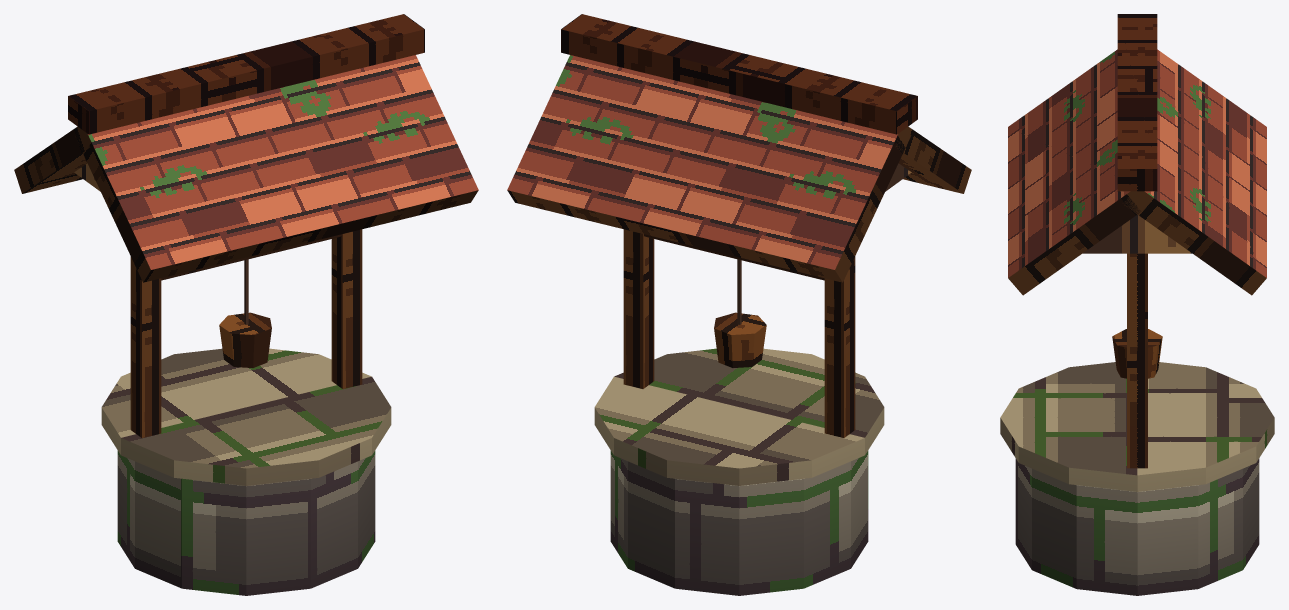
File: well.glb
3 views of the same model, side by side, from view 1: azimuth 30°, elevation 25°; view 2: azimuth 150°, elevation 25°; view 3: azimuth 270°, elevation 25° (orthographic). The views are drawn at different scales.
Visible parts, largest first — view 1: well; view 2: well; view 3: well.
Boxes of the visible parts, <box> form: well: <box>14,14,478,595</box>; well: <box>507,14,971,595</box>; well: <box>1000,14,1274,595</box>.
Size of the model in its own units: 2.41 by 3.28 by 1.8.
Materials: 4 (3 with a texture image).
